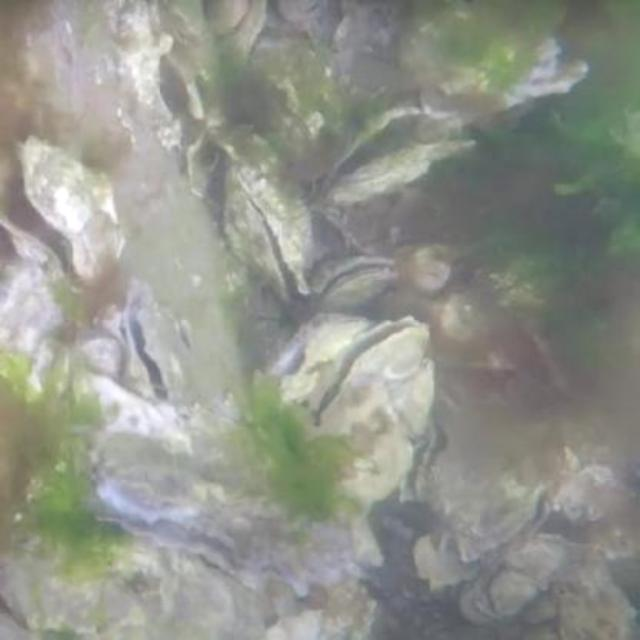Oyster-Closed: (0, 540, 171, 637), (265, 309, 376, 401), (328, 0, 403, 79), (559, 564, 638, 638), (315, 256, 396, 312), (555, 465, 631, 522), (418, 533, 482, 587), (220, 0, 269, 59), (486, 569, 535, 616), (209, 0, 245, 40)
Oyster-Open: (79, 428, 368, 600), (0, 140, 123, 295), (430, 441, 552, 574), (311, 108, 474, 207), (309, 319, 428, 440), (223, 151, 309, 304), (121, 281, 191, 403)
